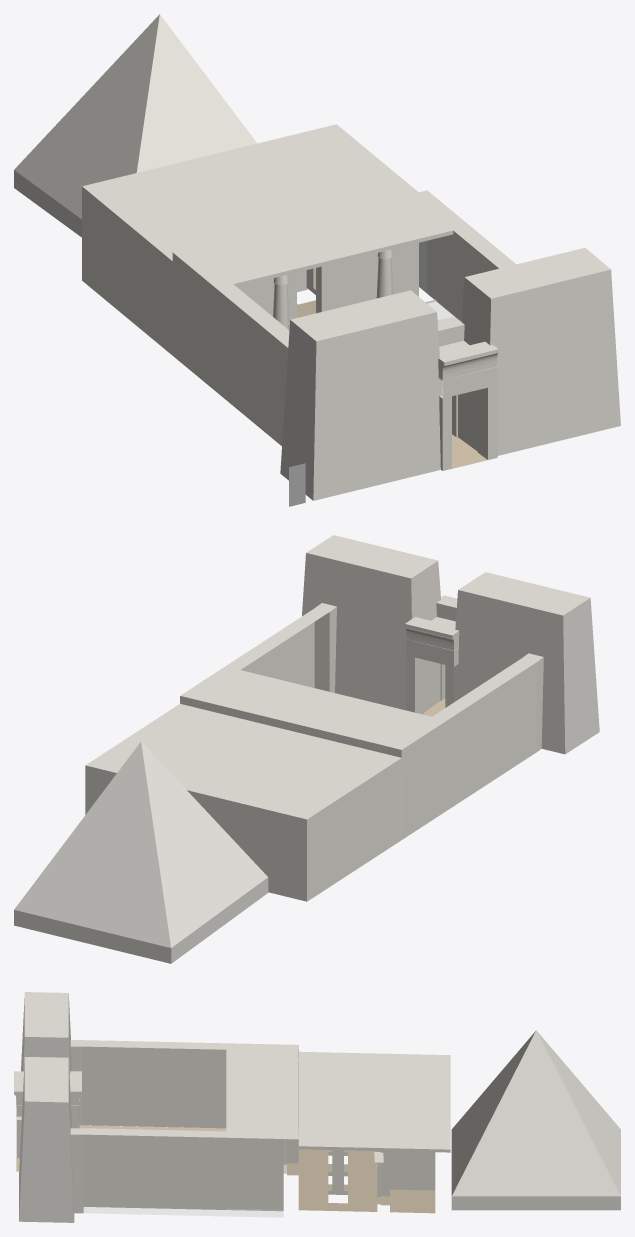
The model's file is Isisnofret.glb.
The picture shows the model from 3 angles, top to bottom: view 1: azimuth 30°, elevation 25°; view 2: azimuth 150°, elevation 25°; view 3: azimuth 270°, elevation 25°; orthographic projection. The views are drawn at different scales.
Parts seen in each view (by area): view 1: Mesh20 Model, Mesh22 Model, Mesh13 Component_28_1 Model, Mesh2 Component_1_1 Model, Mesh10 Component_1_2 Model, Mesh25 Model; view 2: Mesh20 Model, Mesh22 Model, Mesh13 Component_28_1 Model; view 3: Mesh20 Model, Mesh22 Model, Mesh13 Component_28_1 Model, Mesh12 Component_2_2 Model.
Boxes of the visible parts, x1=… form: Mesh20 Model: x1=82, y1=124, x2=620, y2=500; Mesh22 Model: x1=14, y1=14, x2=257, y2=237; Mesh13 Component_28_1 Model: x1=437, y1=316, x2=498, y2=470; Mesh2 Component_1_1 Model: x1=273, y1=275, x2=288, y2=329; Mesh10 Component_1_2 Model: x1=376, y1=249, x2=392, y2=298; Mesh25 Model: x1=289, y1=463, x2=305, y2=506; Mesh20 Model: x1=85, y1=535, x2=599, y2=901; Mesh22 Model: x1=14, y1=741, x2=268, y2=963; Mesh13 Component_28_1 Model: x1=405, y1=595, x2=459, y2=714; Mesh20 Model: x1=16, y1=992, x2=450, y2=1222; Mesh22 Model: x1=451, y1=1030, x2=620, y2=1210; Mesh13 Component_28_1 Model: x1=14, y1=1071, x2=81, y2=1158; Mesh12 Component_2_2 Model: x1=328, y1=1150, x2=347, y2=1194.
Size of the model in its own units: 13.57 by 7.45 by 27.96.
